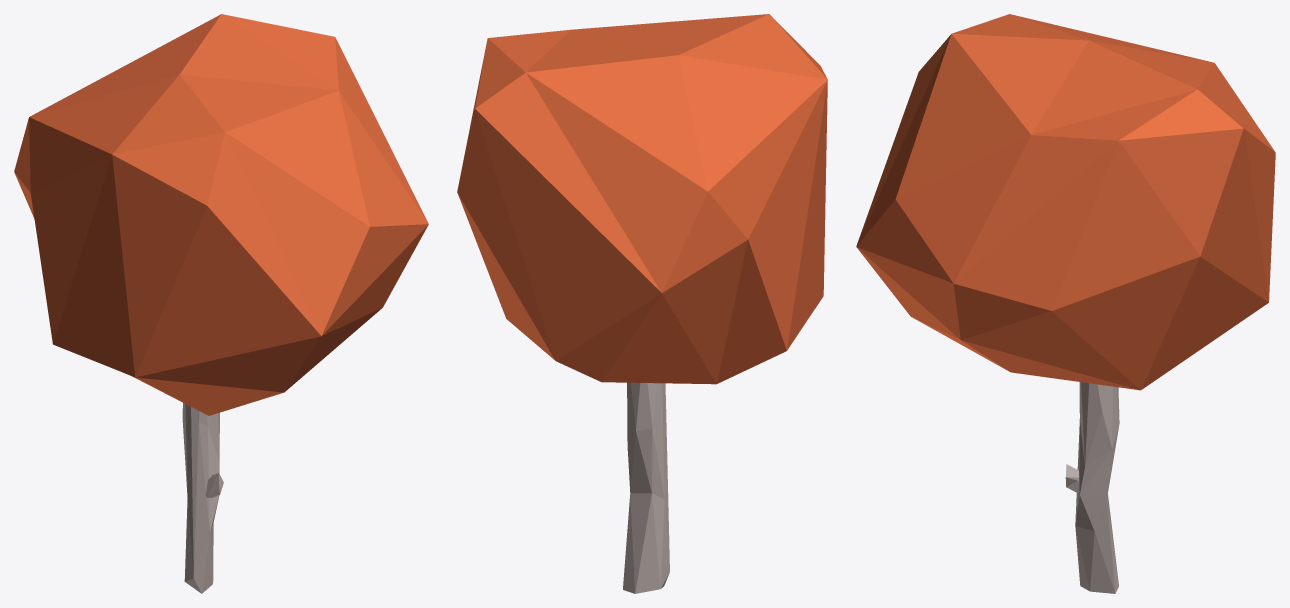
File: AspenLP1.fbx
The picture shows the model from 3 angles, left to right: view 1: azimuth 30°, elevation 25°; view 2: azimuth 150°, elevation 25°; view 3: azimuth 270°, elevation 25°; orthographic projection. The views are drawn at different scales.
Parts seen in each view (by area): view 1: polySurface93; view 2: polySurface93; view 3: polySurface93.
Part boxes in pixels (left/top/right/bottom): polySurface93: left=14, top=14, right=428, bottom=593; polySurface93: left=457, top=14, right=827, bottom=593; polySurface93: left=856, top=14, right=1275, bottom=593.
Size of the model in its own units: 21.9 by 33.95 by 24.07.
